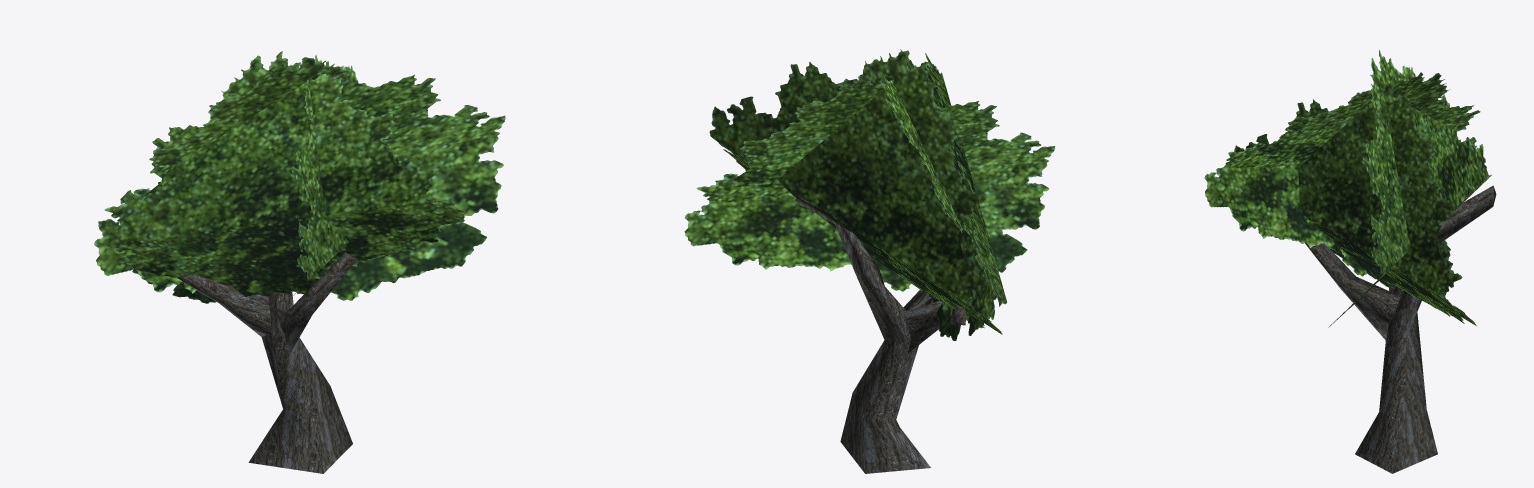
The picture shows the model from 3 angles, left to right: view 1: azimuth 30°, elevation 25°; view 2: azimuth 150°, elevation 25°; view 3: azimuth 270°, elevation 25°; orthographic projection. The views are drawn at different scales.
Visible parts, largest first — view 1: PSX_Tree2; view 2: PSX_Tree2; view 3: PSX_Tree2.
Boxes of the visible parts, box(x1,y1,x2,y2) form: PSX_Tree2: box(94, 51, 505, 473); PSX_Tree2: box(684, 49, 1055, 473); PSX_Tree2: box(1204, 49, 1496, 473).
Bounding box in the file's own units: 2113 × 1861 × 1448.
Materials: 2 (2 with a texture image).
